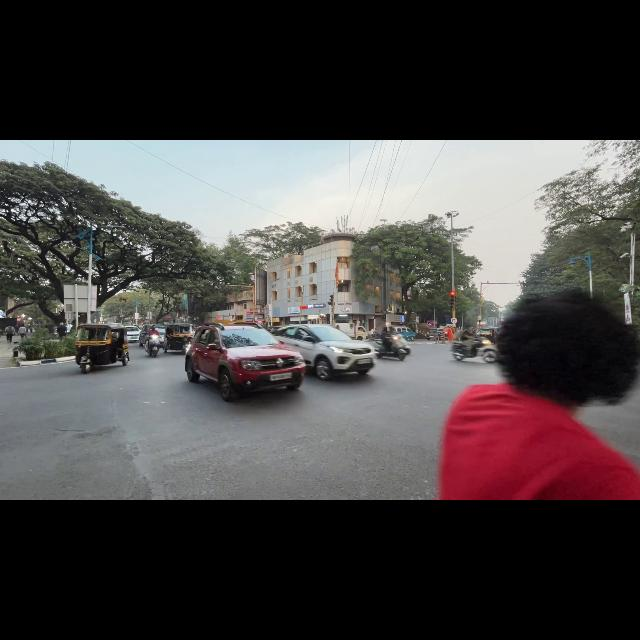car: (185, 323, 305, 401), (277, 325, 375, 379), (392, 326, 415, 340), (125, 326, 140, 341), (156, 325, 165, 346), (426, 328, 438, 340)
motorcycle: (451, 338, 497, 363), (374, 336, 408, 360), (144, 334, 160, 358)
truck: (336, 323, 367, 339)
